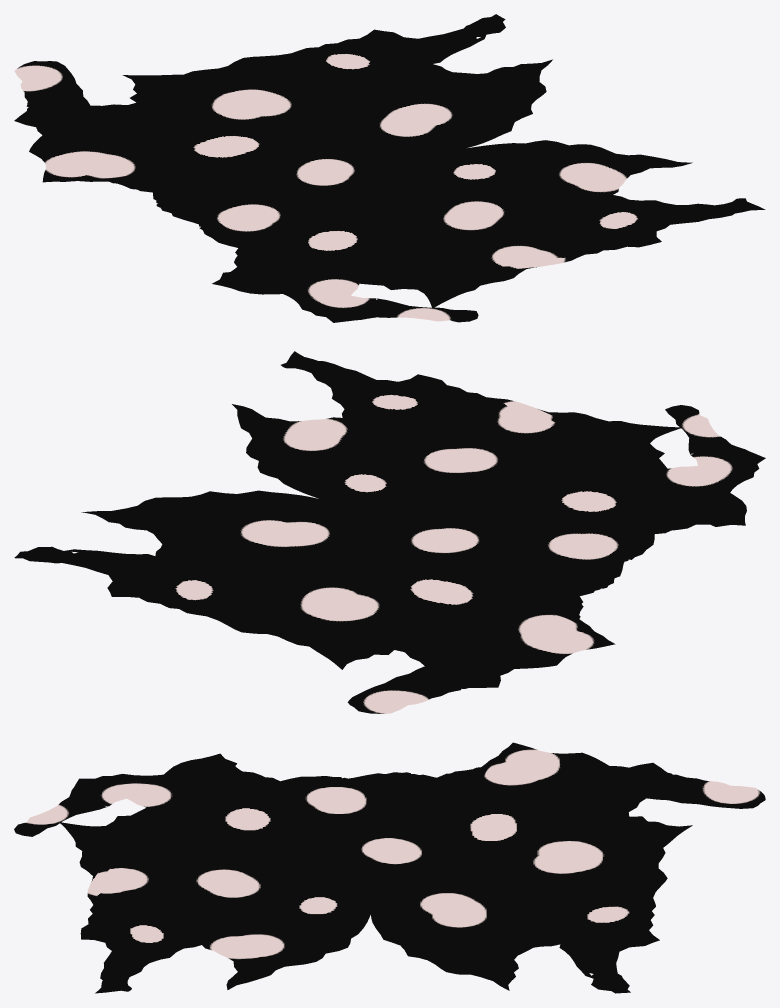
File: cow_hide.obj
3 views of the same model, one above another, from view 1: azimuth 30°, elevation 25°; view 2: azimuth 150°, elevation 25°; view 3: azimuth 270°, elevation 25° (orthographic). The views are drawn at different scales.
Parts seen in each view (by area): view 1: Curve.4015; view 2: Curve.4015; view 3: Curve.4015.
Boxes of the visible parts, x1=… form: Curve.4015: x1=14, y1=14, x2=765, y2=322; Curve.4015: x1=14, y1=351, x2=765, y2=713; Curve.4015: x1=14, y1=742, x2=765, y2=993.
Bounding box in the file's own units: 0.5308 × 0 × 0.6719.
Materials: 1 (1 with a texture image).
